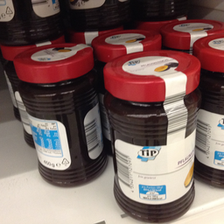jam: (103, 48, 203, 223), (14, 42, 110, 188)
